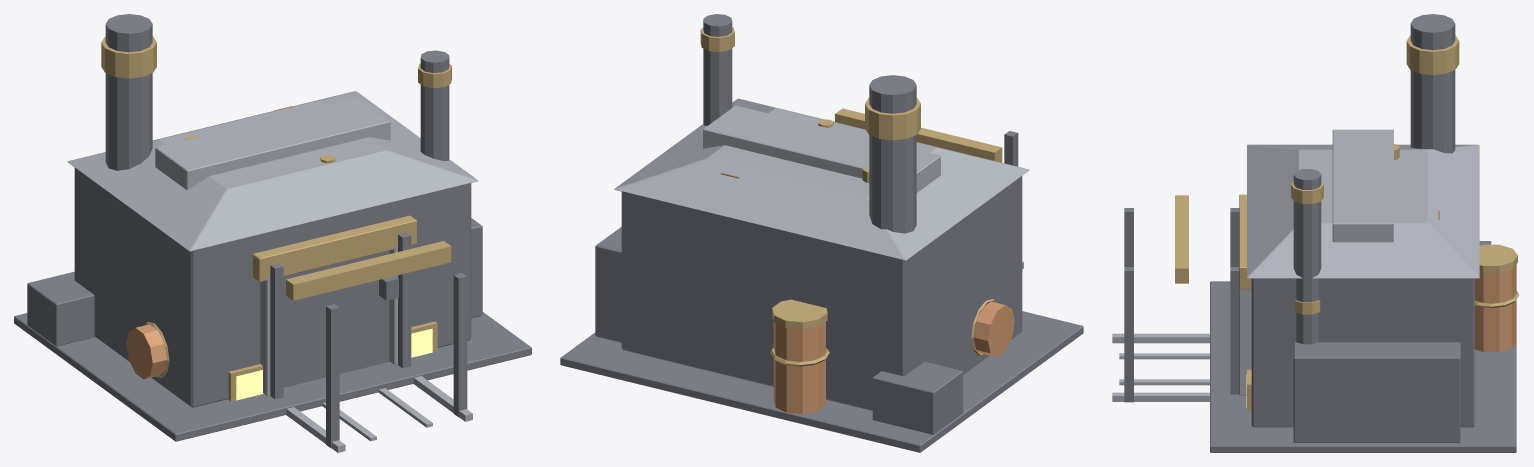
File: gearforge_factory.glb
3 renders of one model, left to right at view 1: azimuth 30°, elevation 25°; view 2: azimuth 150°, elevation 25°; view 3: azimuth 270°, elevation 25°, orthographic. The views are drawn at different scales.
Visible parts, largest first — view 1: gearforge_factory_dark_iron_lod0, gearforge_factory_steel_lod0, gearforge_factory_brass_lod0, gearforge_factory_copper_lod0, gearforge_factory_furnace_glow_lod0; view 2: gearforge_factory_dark_iron_lod0, gearforge_factory_steel_lod0, gearforge_factory_brass_lod0, gearforge_factory_copper_lod0; view 3: gearforge_factory_dark_iron_lod0, gearforge_factory_steel_lod0, gearforge_factory_brass_lod0, gearforge_factory_copper_lod0.
Part boxes in pixels (x1,y1,x2,y2): gearforge_factory_dark_iron_lod0: (14,14,531,448); gearforge_factory_steel_lod0: (67,91,478,452); gearforge_factory_brass_lod0: (101,36,451,401); gearforge_factory_copper_lod0: (126,324,166,379); gearforge_factory_furnace_glow_lod0: (236,328,432,400); gearforge_factory_dark_iron_lod0: (560,14,1083,452); gearforge_factory_steel_lod0: (614,98,1029,269); gearforge_factory_brass_lod0: (700,27,1002,366); gearforge_factory_copper_lod0: (773,301,1014,414); gearforge_factory_dark_iron_lod0: (1124,14,1516,452); gearforge_factory_steel_lod0: (1112,129,1479,401); gearforge_factory_brass_lod0: (1175,35,1519,410); gearforge_factory_copper_lod0: (1474,264,1516,352).
Size of the model in its own units: 14 by 11.8 by 14.61.
